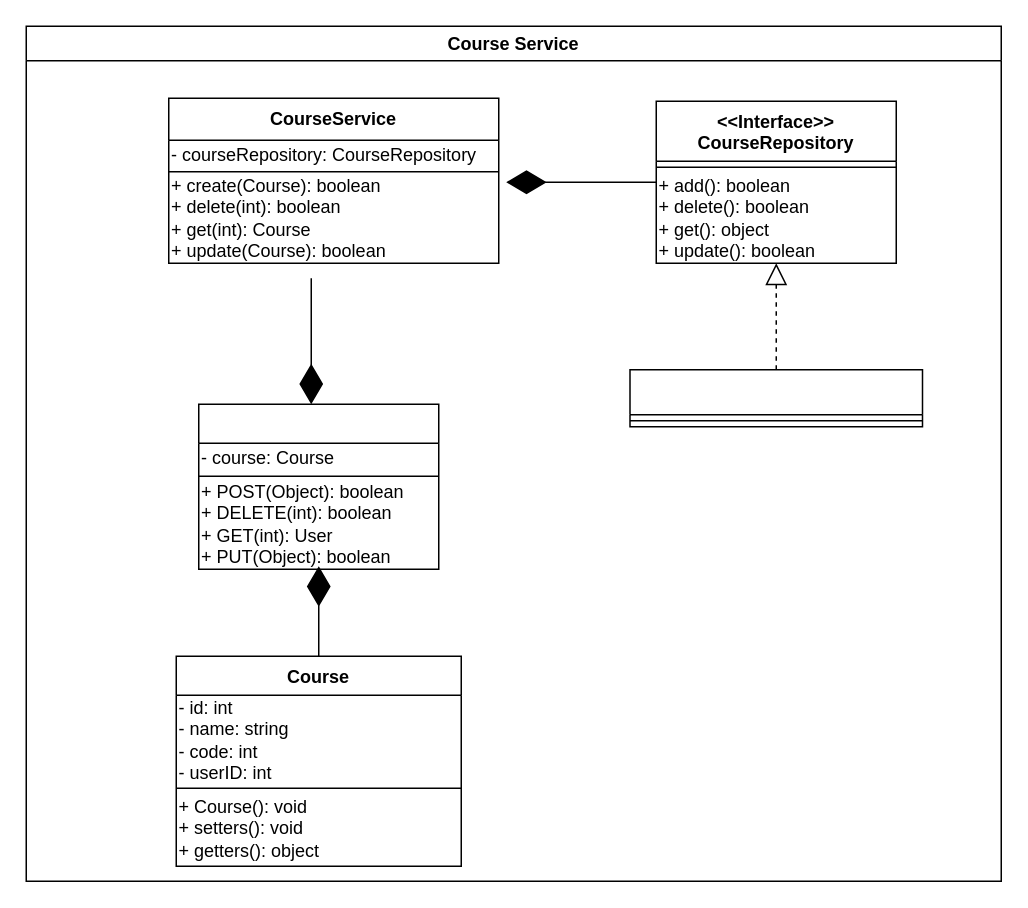
Some shapes in this 1028 by 908 pixel diagram are drawn without their labels. The shapes that lost their labels are listed below. From the top down, each one's box as (x1, y1, x2, y2) in pixels, then its label:
(628, 368, 922, 427): MySQLCourseRepository
(197, 403, 439, 569): CourseController
